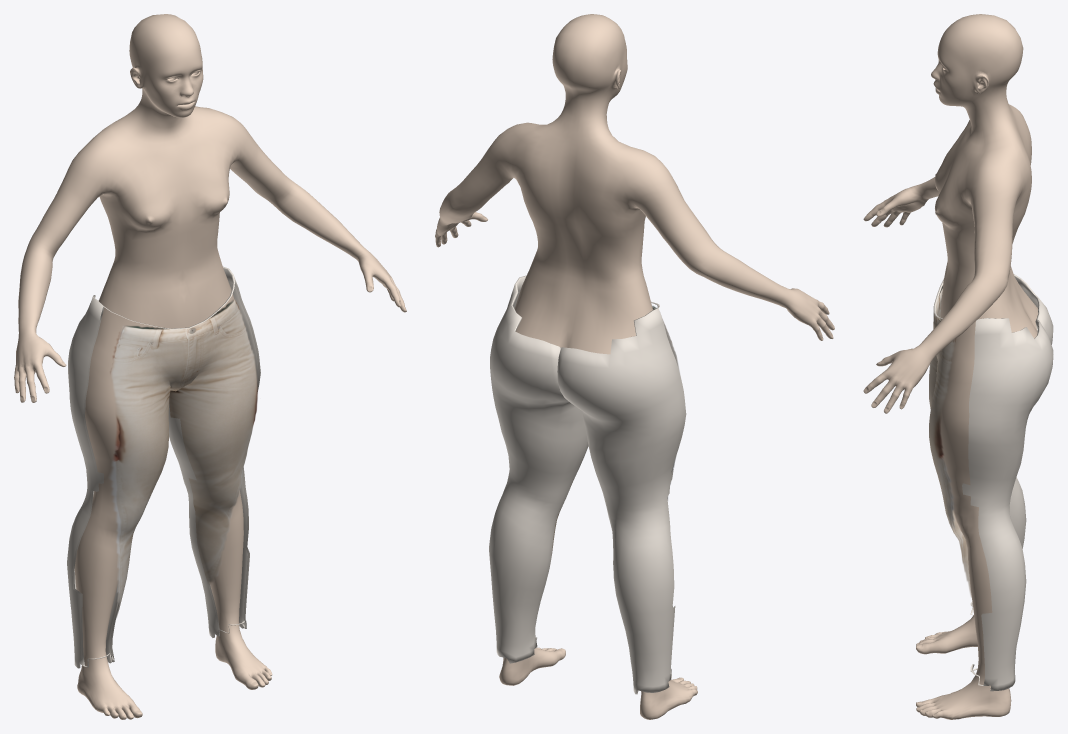
File: avatar_78c890e84581.glb
3 renders of one model, left to right at view 1: azimuth 30°, elevation 25°; view 2: azimuth 150°, elevation 25°; view 3: azimuth 270°, elevation 25°, orthographic.
Visible parts, largest first — view 1: Human_gen, garment_trousers; view 2: garment_trousers, Human_gen; view 3: Human_gen, garment_trousers.
Part boxes in pixels (left/top/right/bottom): Human_gen: left=14, top=14, right=406, bottom=719; garment_trousers: left=67, top=266, right=260, bottom=668; garment_trousers: left=489, top=275, right=686, bottom=694; Human_gen: left=435, top=14, right=834, bottom=719; Human_gen: left=863, top=14, right=1038, bottom=719; garment_trousers: left=929, top=274, right=1053, bottom=691.
Size of the model in its own units: 1.03 by 1.7 by 0.4408.
3 materials, 1 textured.
